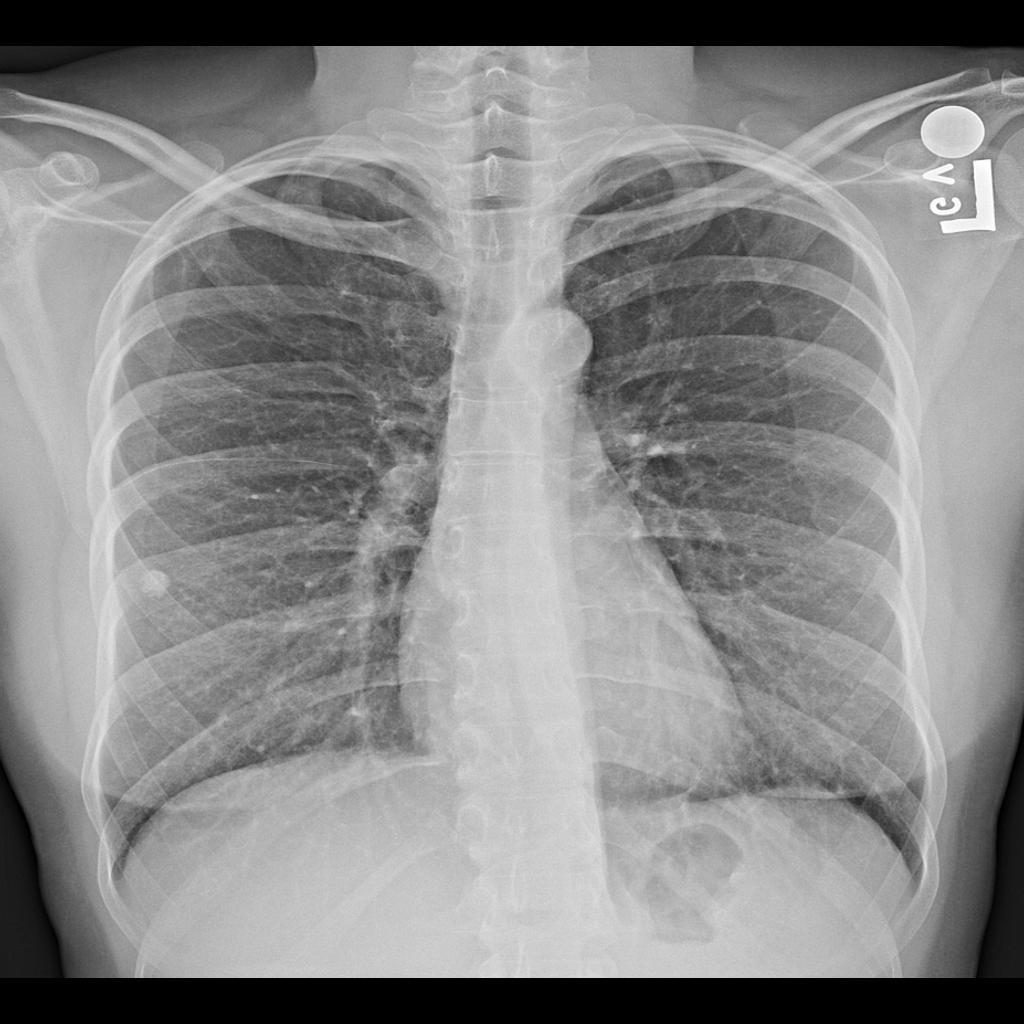Nodule: (139, 569, 175, 597)
